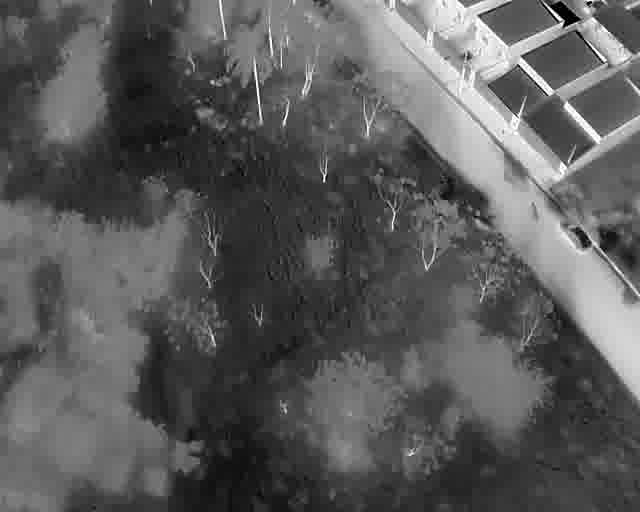car: (558, 216, 593, 254), (448, 48, 475, 69)
